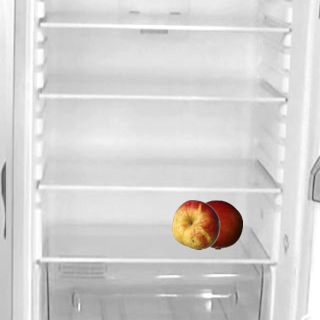Apple Braeburn: (192, 199, 242, 249)
Apple Red Yellow 1: (170, 199, 220, 249)
